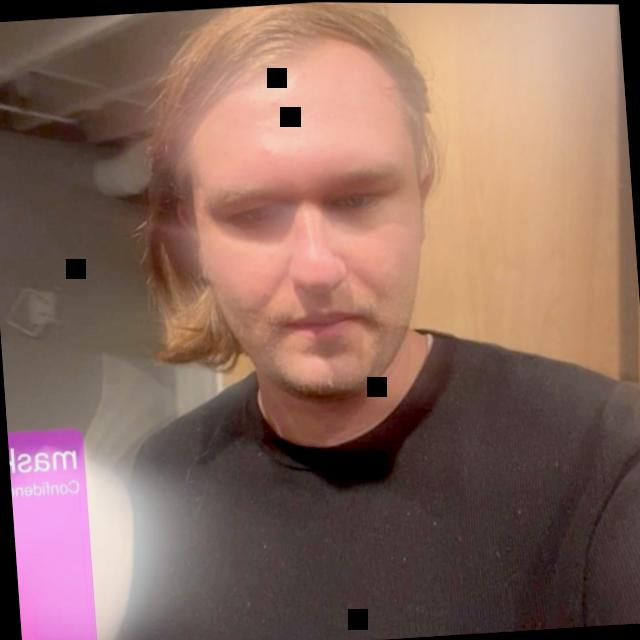NO-Mask: (93, 1, 506, 440)
